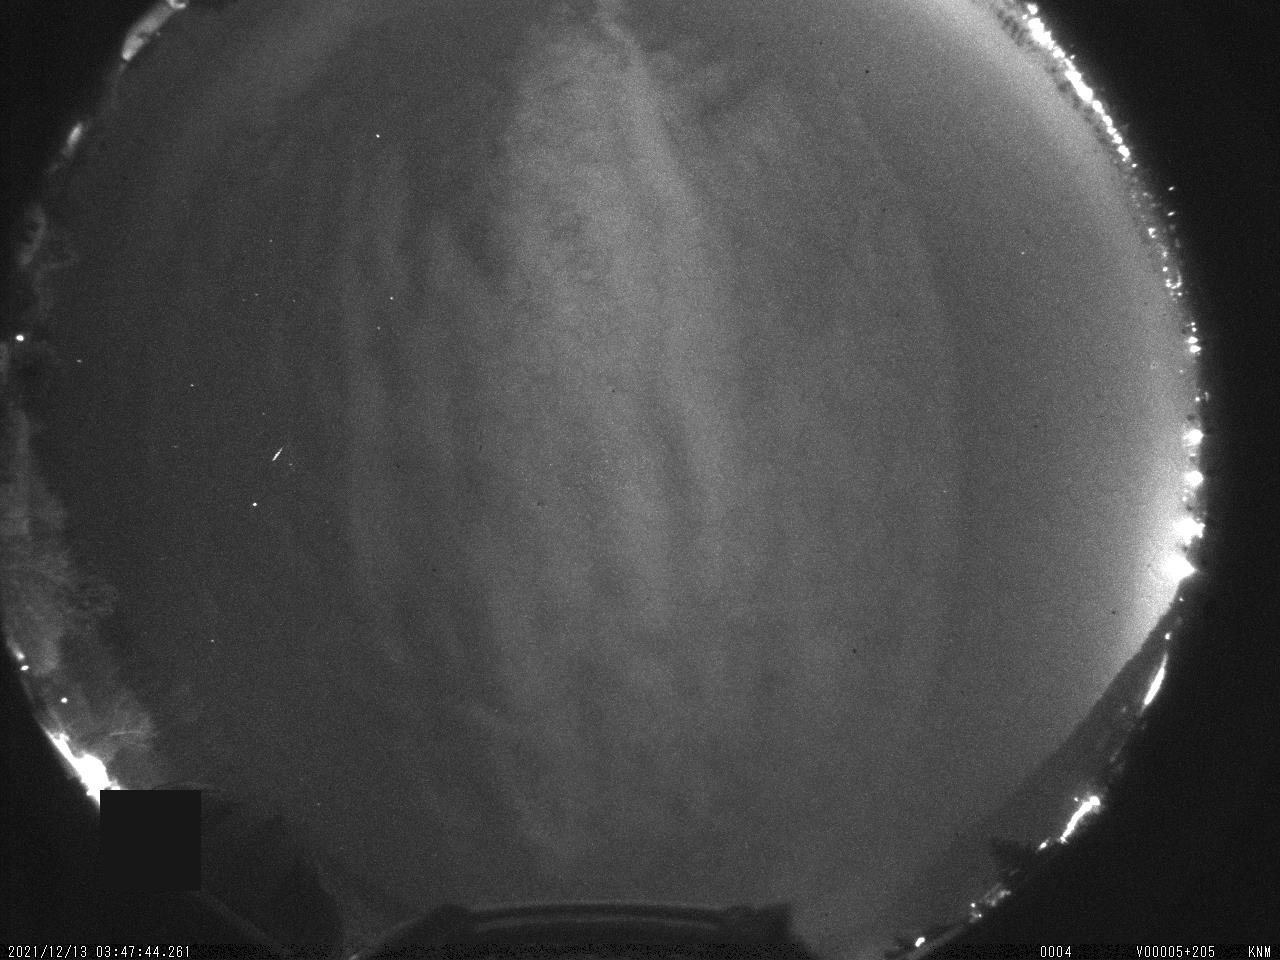meteor: (252, 438, 294, 468)
